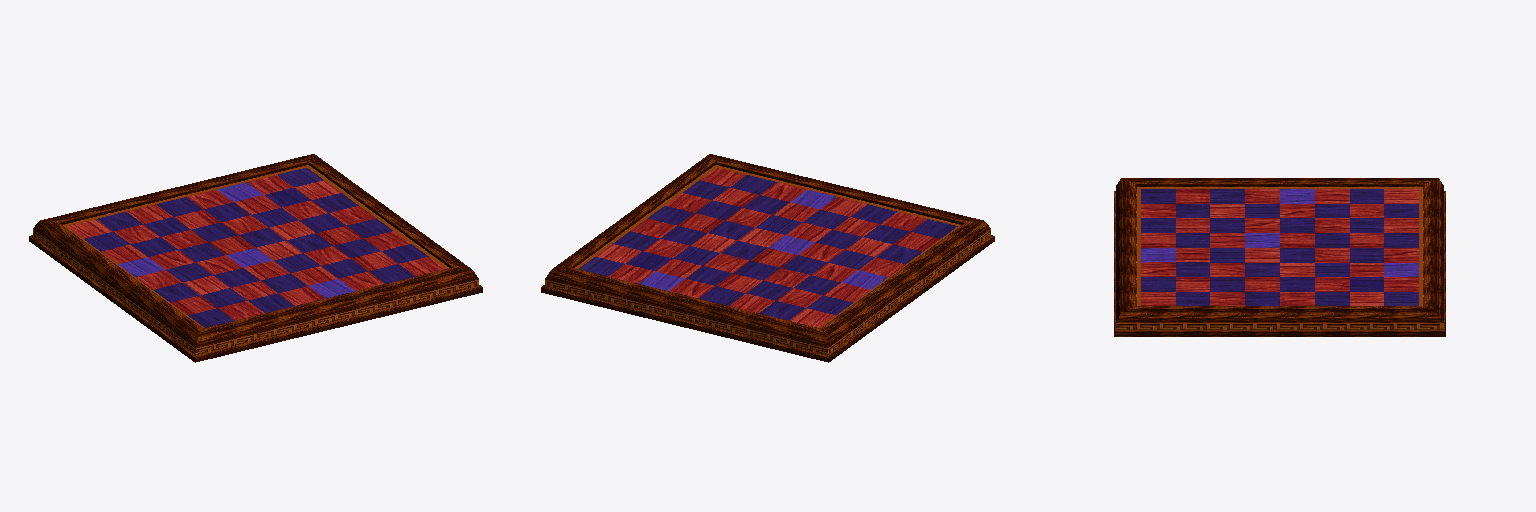
3 views of the same model, side by side, from view 1: azimuth 30°, elevation 25°; view 2: azimuth 150°, elevation 25°; view 3: azimuth 270°, elevation 25° (orthographic).
Parts seen in each view (by area): view 1: Mesh1 Group1 Model; view 2: Mesh1 Group1 Model; view 3: Mesh1 Group1 Model.
Boxes of the visible parts, x1,y1,x2,y2 form: Mesh1 Group1 Model: [29, 154, 482, 362]; Mesh1 Group1 Model: [541, 154, 994, 362]; Mesh1 Group1 Model: [1114, 178, 1445, 336].
Bounding box in the file's own units: 22.58 × 1.61 × 22.58.
22 materials, 22 textured.